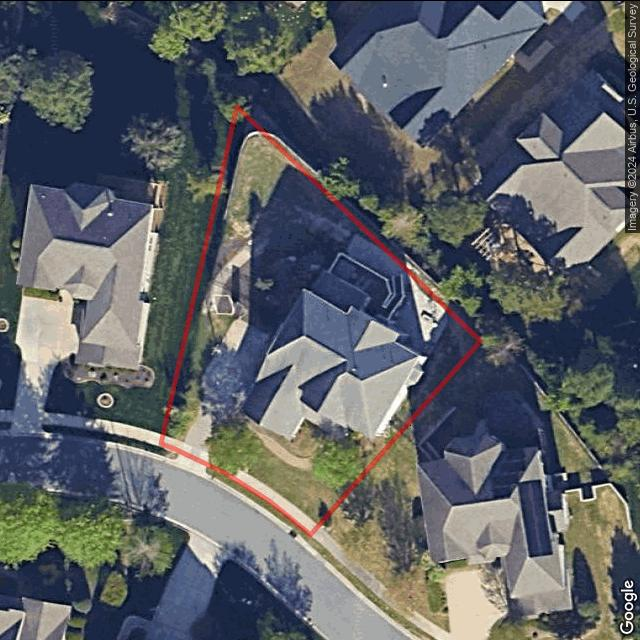Driveway: (179, 316, 275, 464)
Extra-Driveway: (175, 448, 208, 476)
Extra-Lawn: (207, 464, 311, 539), (157, 445, 179, 459)
House: (244, 265, 426, 438)
Lawn: (160, 105, 482, 534)
Other: (202, 208, 352, 336), (328, 229, 452, 351)
Sidewalk: (209, 449, 320, 534), (234, 410, 347, 469), (160, 433, 184, 452)
